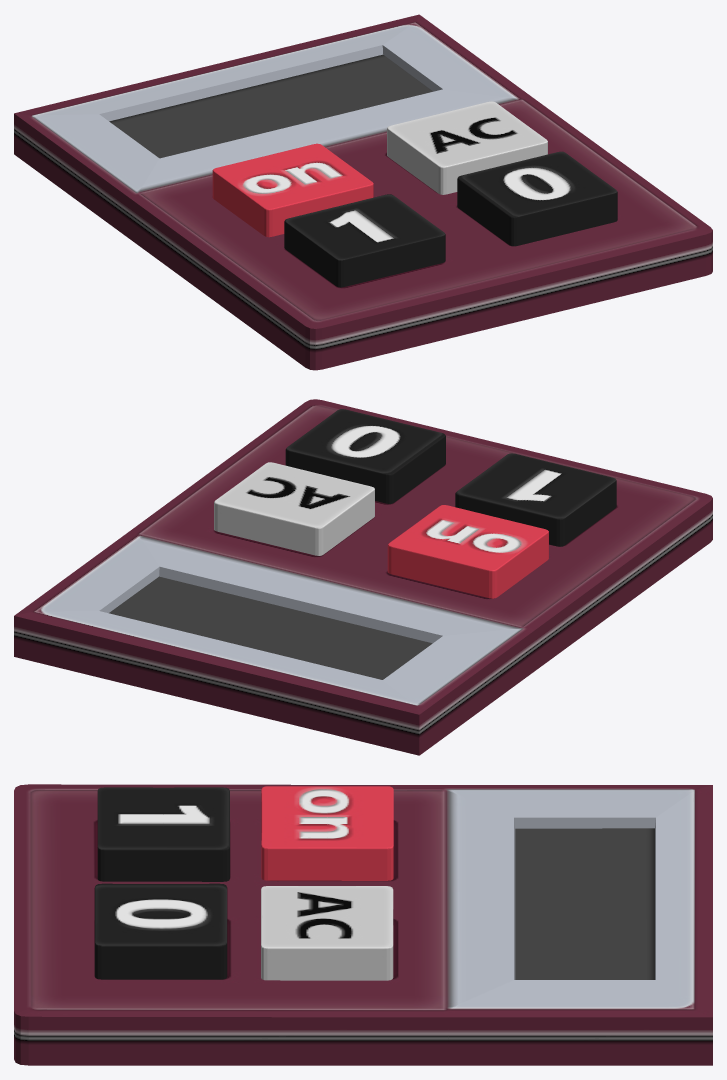
The model's file is calculator.FBX.
3 views of the same model, one above another, from view 1: azimuth 30°, elevation 25°; view 2: azimuth 150°, elevation 25°; view 3: azimuth 270°, elevation 25° (orthographic). The views are drawn at different scales.
Visible parts, largest first — view 1: calculator, calculator_display, calculator_box003, calculator_box004, calculator_box001, calculator_box002; view 2: calculator, calculator_display, calculator_box001, calculator_box002, calculator_box003, calculator_box004; view 3: calculator, calculator_display, calculator_box003, calculator_box001, calculator_box002, calculator_box004.
Part boxes in pixels (x1,y1,x2,y2): calculator: (14, 14, 712, 370); calculator_display: (109, 54, 432, 158); calculator_box003: (457, 151, 617, 246); calculator_box004: (284, 194, 445, 287); calculator_box001: (212, 143, 373, 237); calculator_box002: (387, 101, 547, 194); calculator: (14, 399, 712, 755); calculator_display: (109, 576, 432, 679); calculator_box001: (387, 505, 548, 598); calculator_box002: (214, 462, 374, 555); calculator_box003: (285, 409, 445, 503); calculator_box004: (455, 453, 616, 546); calculator: (14, 784, 712, 1065); calculator_display: (515, 828, 654, 979); calculator_box003: (94, 883, 227, 979); calculator_box001: (261, 786, 393, 880); calculator_box002: (261, 886, 393, 980); calculator_box004: (97, 787, 229, 881).
Bounding box in the file's own units: 14.94 × 2.53 × 19.
